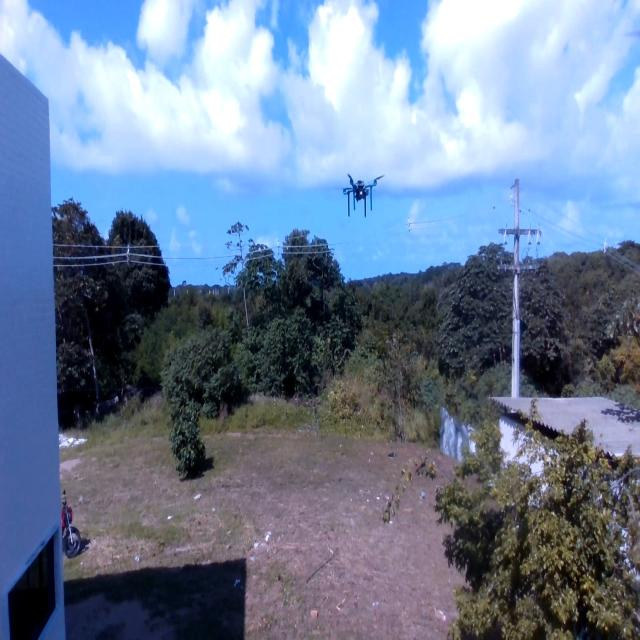-uav-: (330, 139, 393, 249)
